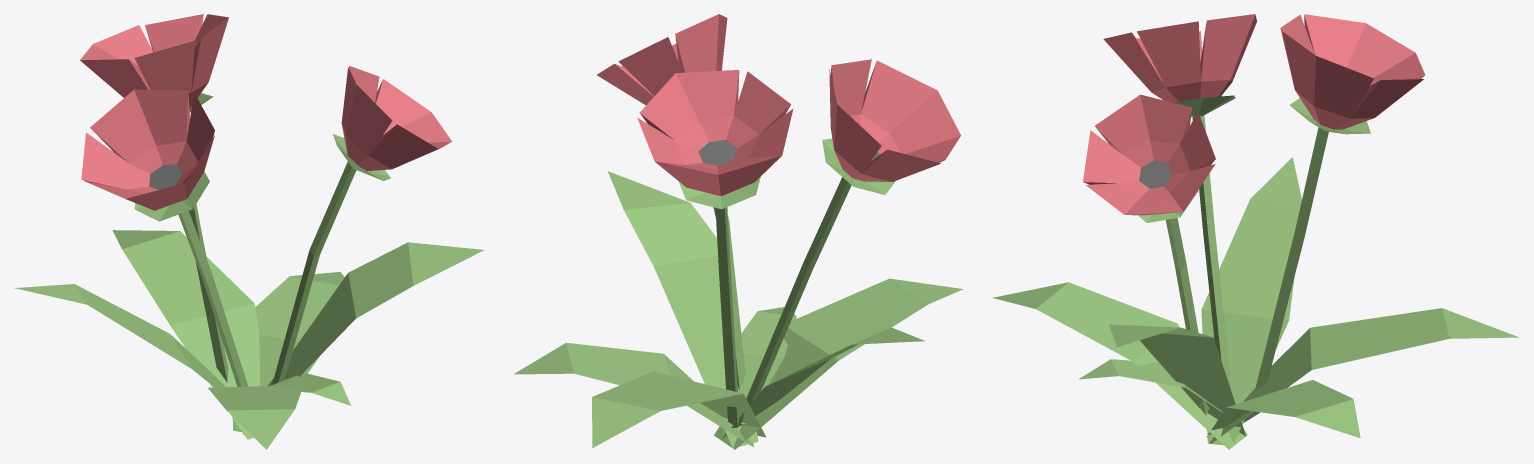
The model's file is carnations.glb.
3 views of the same model, side by side, from view 1: azimuth 30°, elevation 25°; view 2: azimuth 150°, elevation 25°; view 3: azimuth 270°, elevation 25° (orthographic). The views are drawn at different scales.
Parts seen in each view (by area): view 1: carnations; view 2: carnations; view 3: carnations.
Boxes of the visible parts, x1=… form: carnations: x1=14, y1=14, x2=483, y2=449; carnations: x1=514, y1=14, x2=963, y2=449; carnations: x1=992, y1=14, x2=1519, y2=449.
Bounding box in the file's own units: 79.97 × 74.9 × 90.86.
